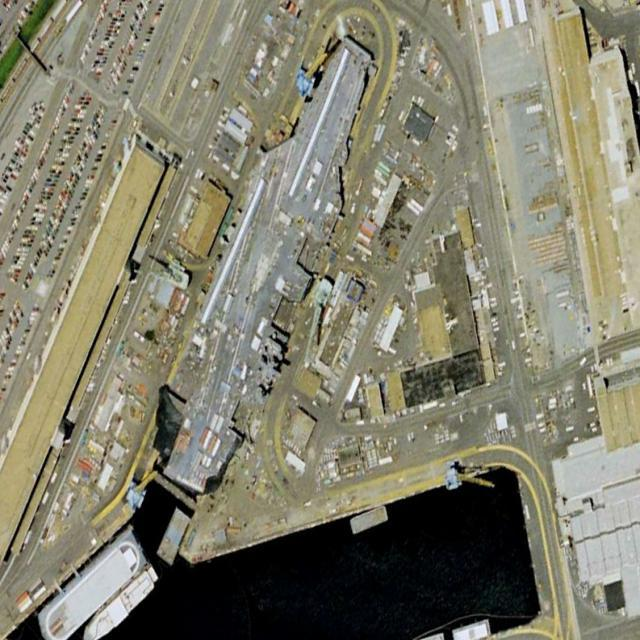Aircraft Carrier: (140, 12, 399, 518)
